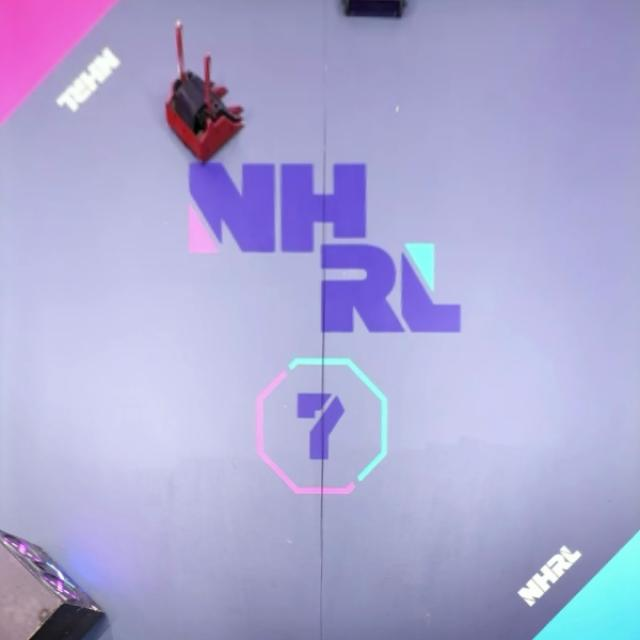housebot: (0, 530, 108, 640)
robot: (164, 23, 245, 164), (336, 0, 408, 20)
